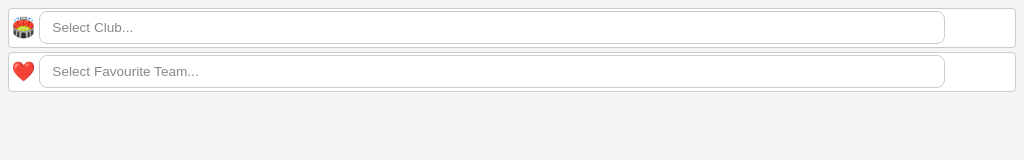
ClubEdit — ClubSelect dropdown selection › selecting a club from the dropdown updates the bound id and the numeric box
Type "Tirana" into the field with placeholder "Select Club...".
click(492, 28); type("Tirana")  # box [39,11,945,44]
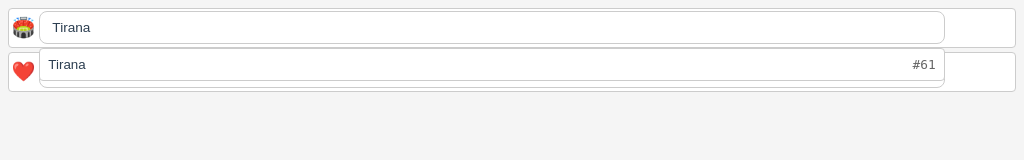
Click the button "Tirana #61".
click(67, 65)  # box [40,49,944,80]
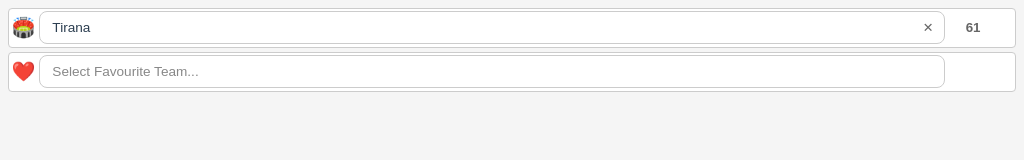
Expected: the 1st number field titled "lub wpisz ID" holds "61", [949,19,1013,36]
